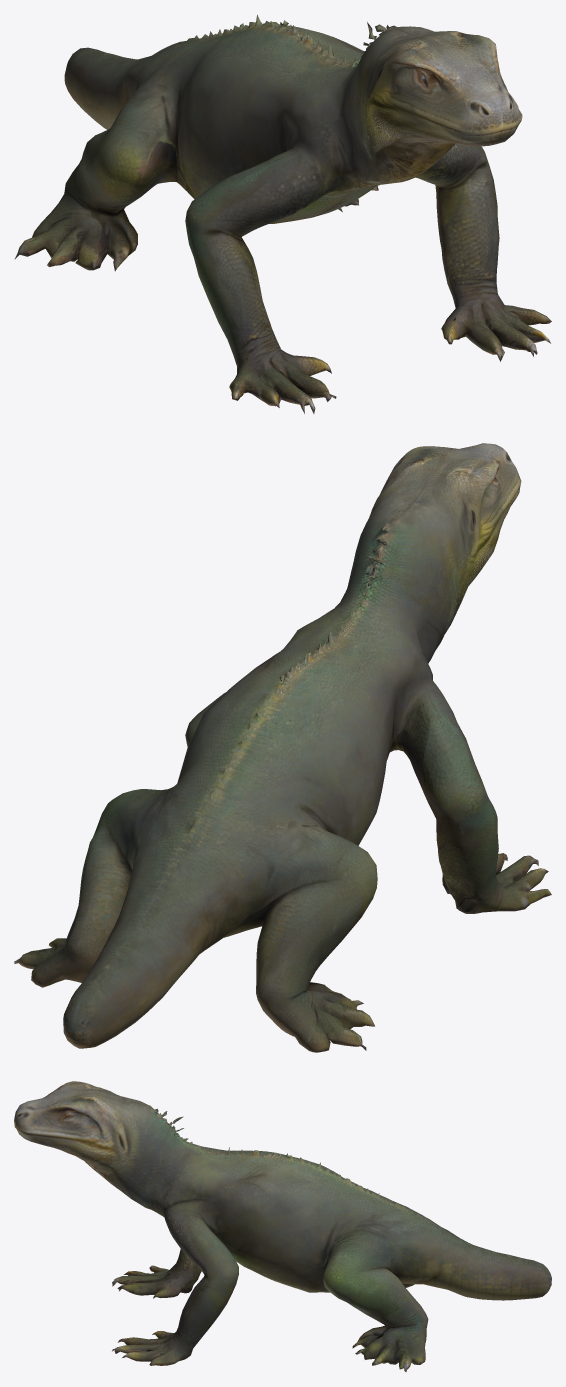
The model's file is komodo.fbx.
3 renders of one model, top to bottom at view 1: azimuth 30°, elevation 25°; view 2: azimuth 150°, elevation 25°; view 3: azimuth 270°, elevation 25°, orthographic. The views are drawn at different scales.
Parts seen in each view (by area): view 1: Mesh_0.009; view 2: Mesh_0.009; view 3: Mesh_0.009.
Boxes of the visible parts, bbox=[...] form: Mesh_0.009: bbox=[14, 14, 551, 413]; Mesh_0.009: bbox=[14, 443, 551, 1052]; Mesh_0.009: bbox=[14, 1081, 551, 1371].
Size of the model in its own units: 95.3 by 95.27 by 200.
Materials: 1 (1 with a texture image).
